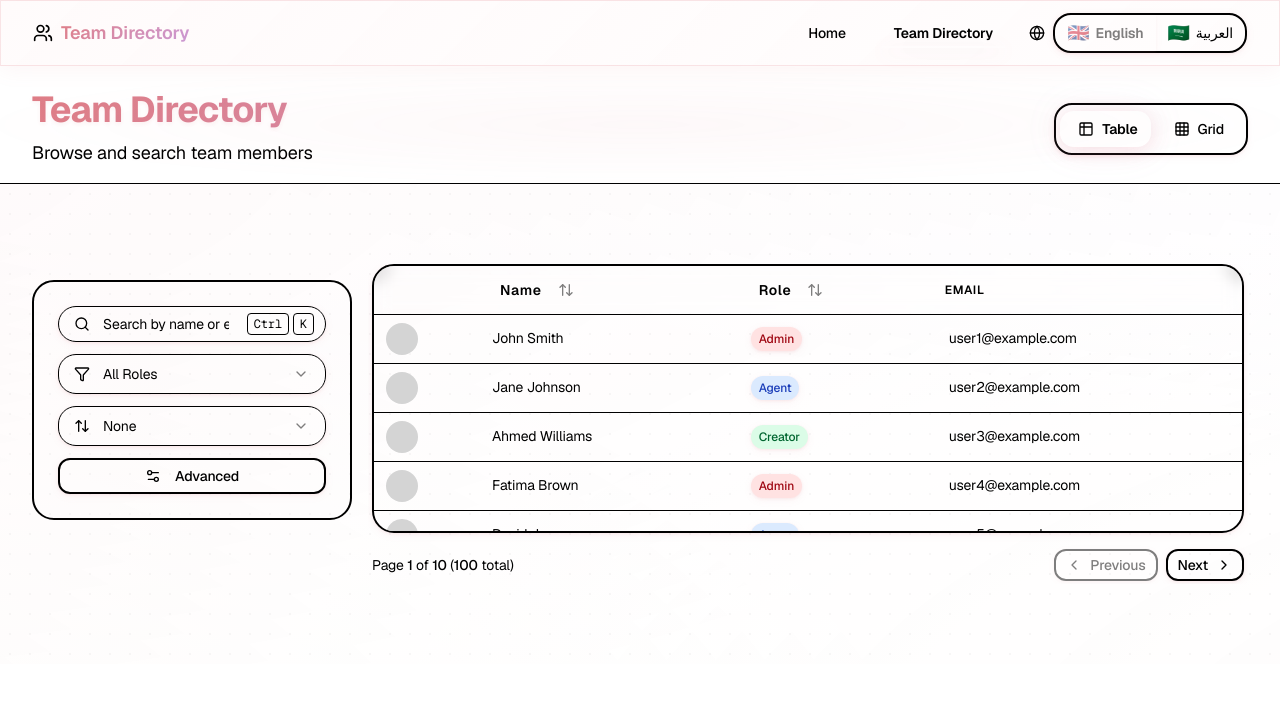
Team Directory - Full User Journey › should clear filters and show all results
Type "test" into the field with placeholder "Search by name or email..." at (192, 324), box [58,306,326,342]
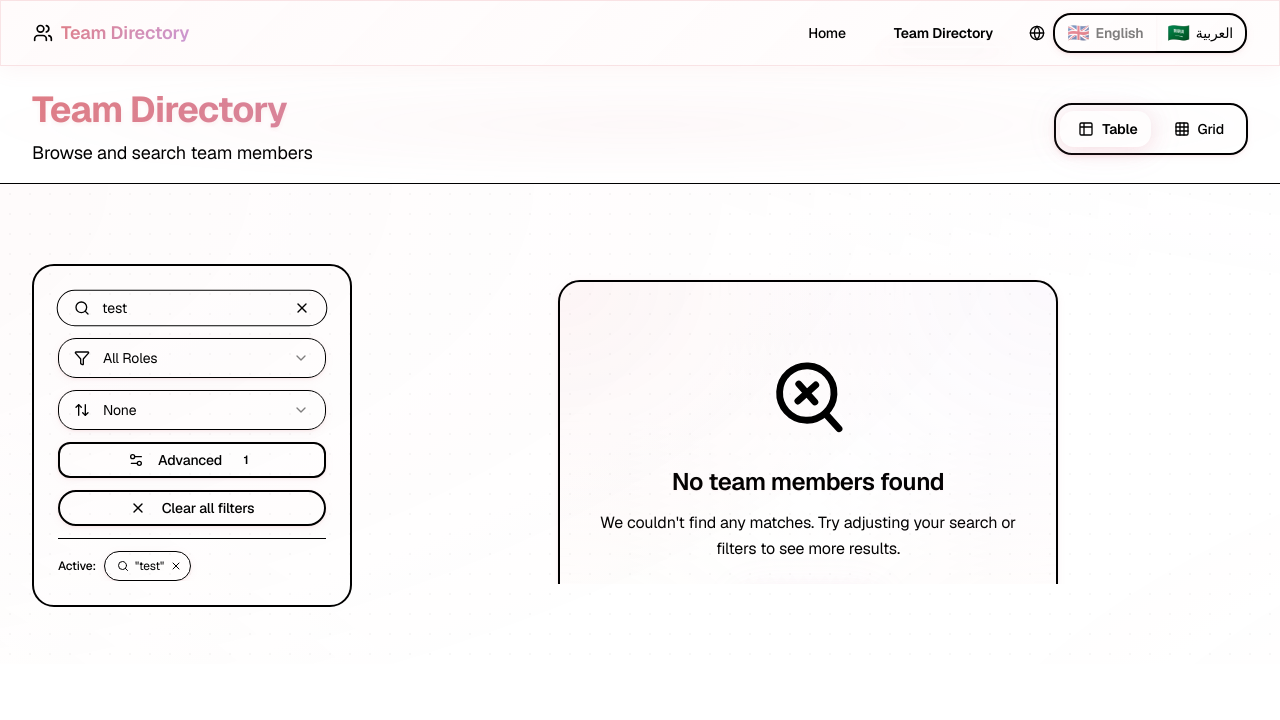
Click the dropdown labelled "All Roles" at (130, 358), box [58,338,326,378]
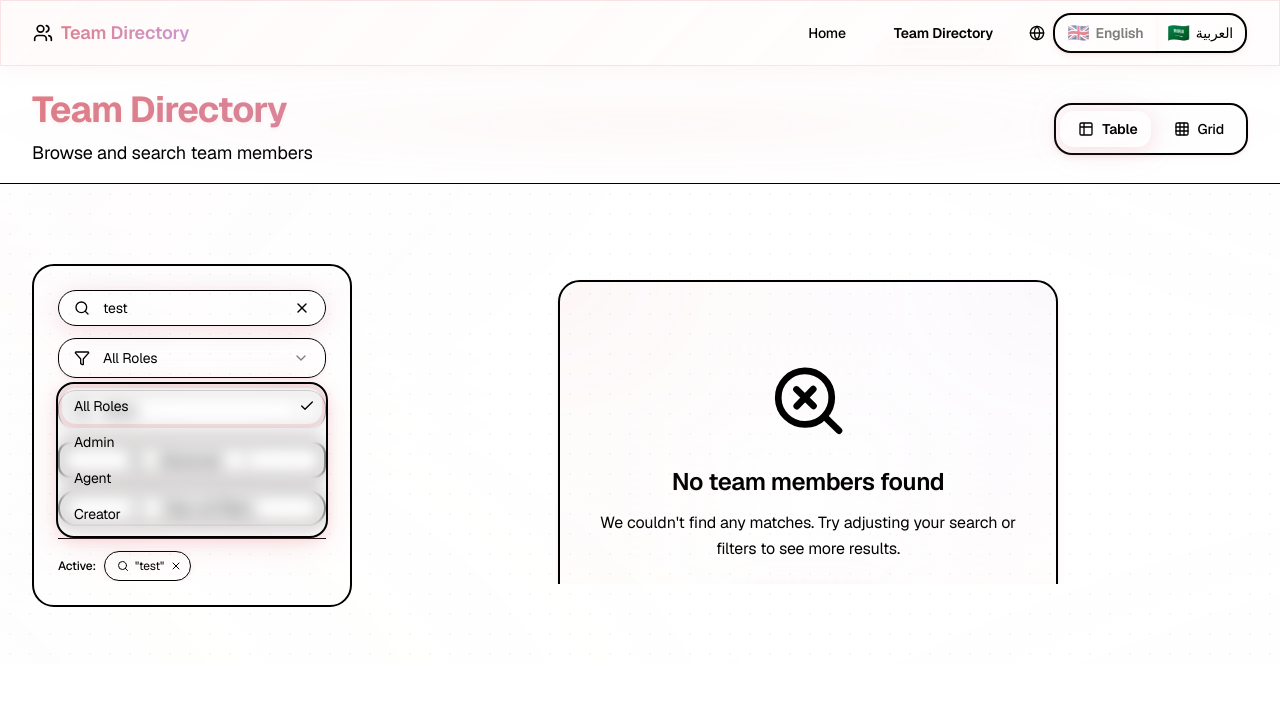
Expected: the list is shown, [56,382,328,538]
Click the text "Admin" at (95, 442), box [74,432,115,452]
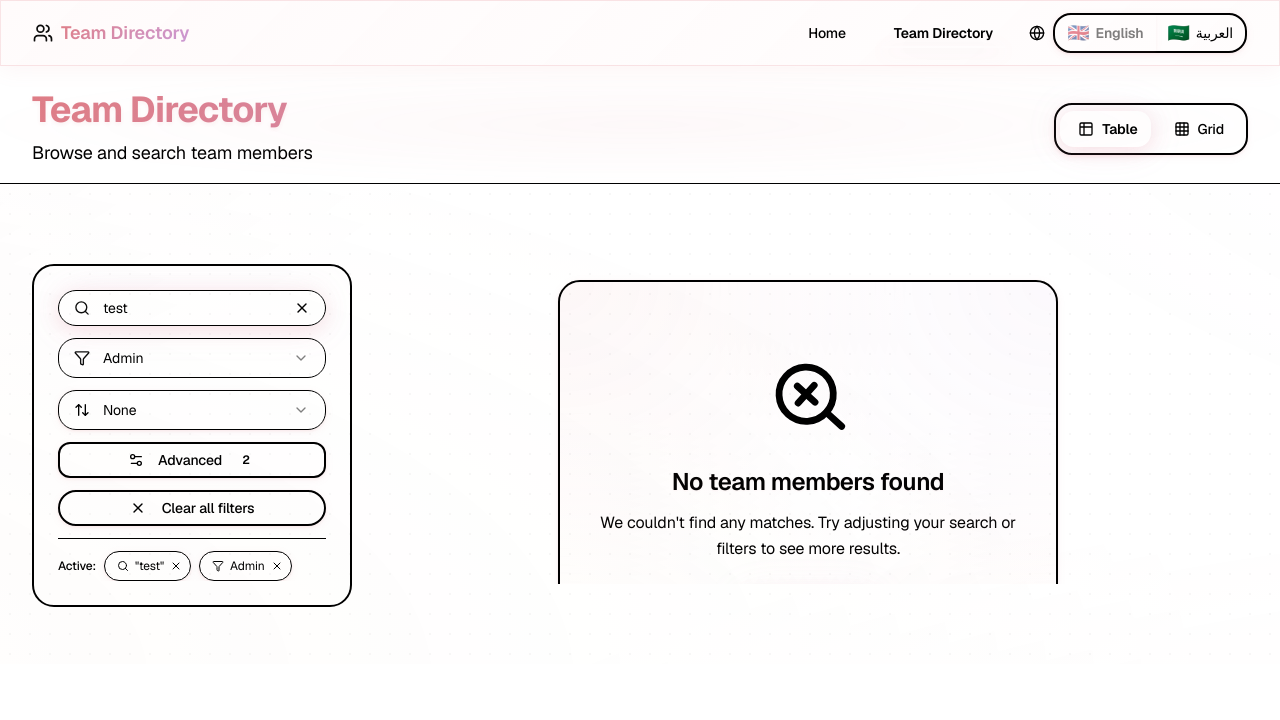
Expected: the list is gone
Click the button "Clear all filters" at (192, 508), box [58,490,326,526]
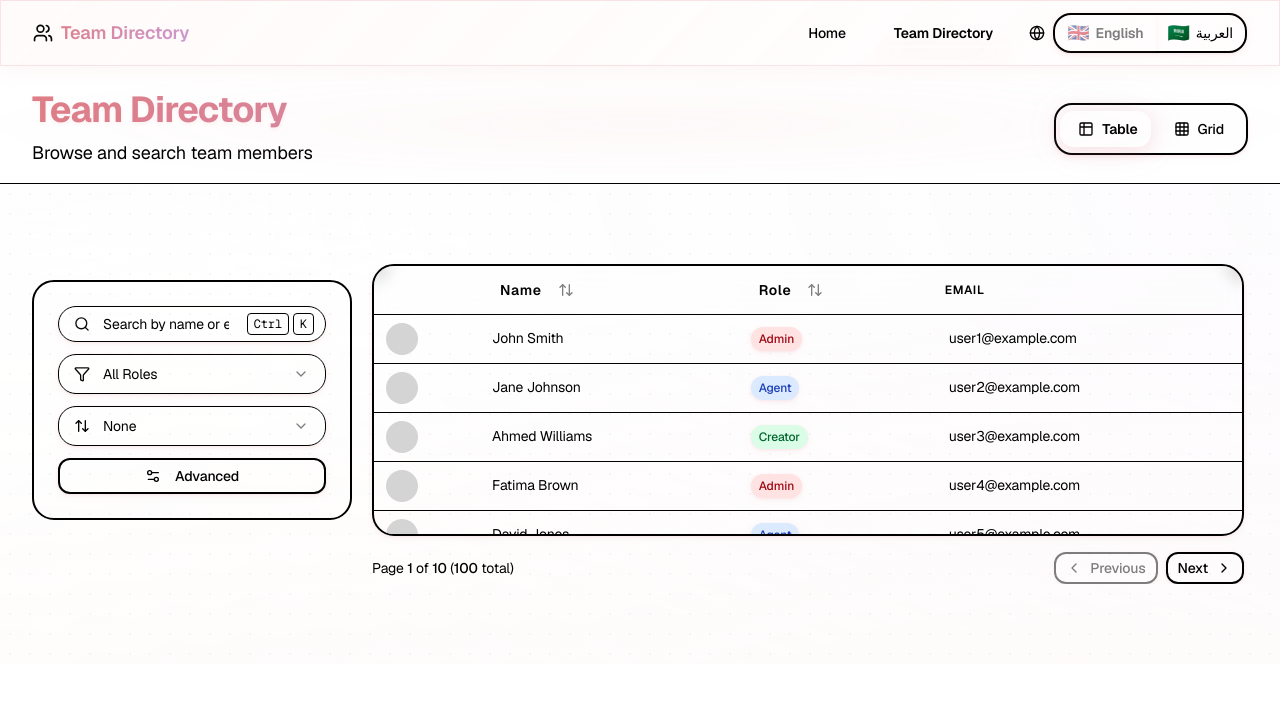
Expected: the row "John Smith Admin user1@example.com" is shown, [374,314,1242,363]
Expected: the number of rows is more than 0
